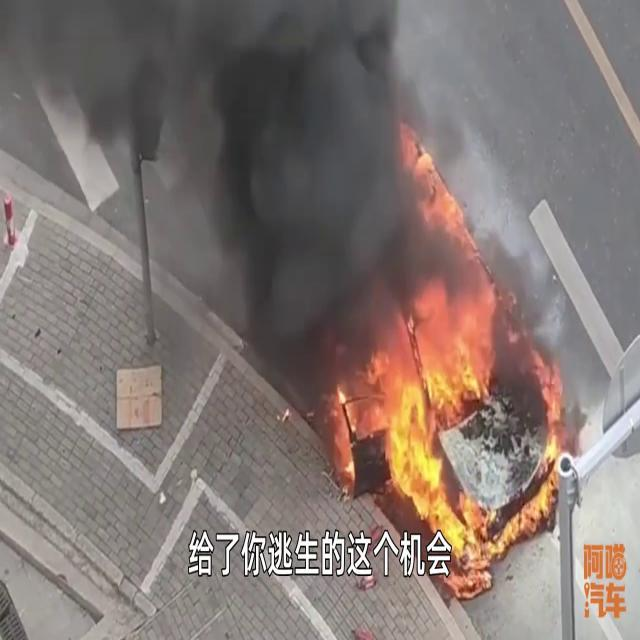Fire: (328, 282, 504, 540), (530, 362, 572, 520)
Smoke: (7, 0, 475, 383)
